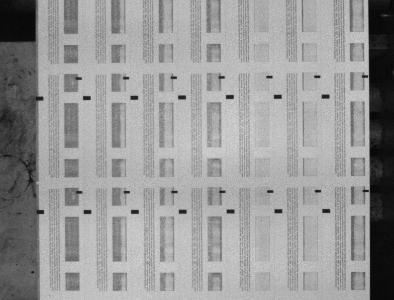backgroundclutter: (31, 271, 35, 274)
qblock: (130, 95, 139, 100), (322, 208, 331, 213), (36, 209, 44, 214), (274, 94, 282, 99), (131, 209, 139, 214), (179, 209, 187, 214), (178, 95, 186, 99), (226, 95, 234, 99), (84, 210, 92, 214), (83, 96, 91, 100), (275, 209, 283, 213), (322, 94, 330, 98), (227, 209, 235, 213), (36, 96, 43, 100)
smallqblock: (76, 190, 83, 194), (362, 74, 369, 78), (219, 75, 225, 79), (75, 77, 82, 80), (123, 76, 130, 79), (267, 190, 274, 193), (315, 189, 322, 192), (363, 189, 370, 192), (267, 75, 273, 78), (220, 190, 226, 193), (171, 76, 177, 79), (315, 75, 321, 78), (124, 190, 130, 193), (172, 190, 178, 193)
